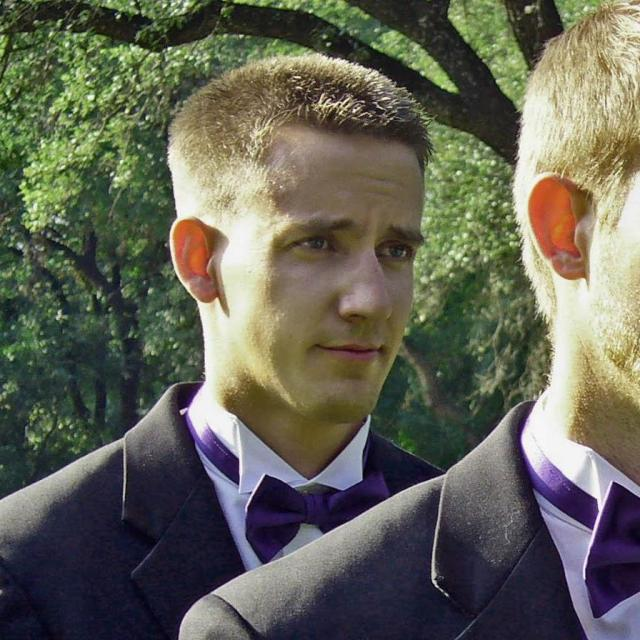no-glass: (285, 228, 419, 256)
